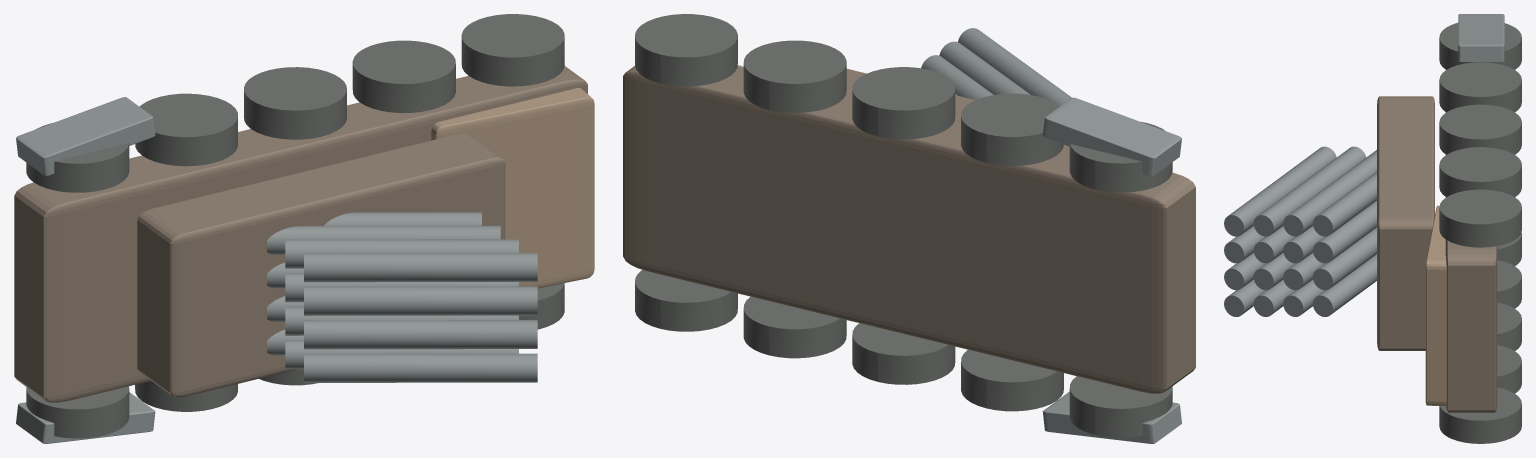
Rendered from d-u17-dominion-rocket-artillery-lod1.glb.
3 views of the same model, side by side, from view 1: azimuth 30°, elevation 25°; view 2: azimuth 150°, elevation 25°; view 3: azimuth 270°, elevation 25° (orthographic). The views are drawn at different scales.
Parts seen in each view (by area): view 1: upper_hull, chassis_lower, chassis_nose, rocket_tube_15, rocket_tube_14, rocket_tube_13, rocket_tube_16, chassis_wheel_1_4, chassis_wheel_1_3, chassis_wheel_1_2, chassis_wheel_1_1, rocket_jack_1 (+11 smaller); view 2: chassis_lower, chassis_wheel_1_2, chassis_wheel_1_3, chassis_wheel_1_4, chassis_wheel_1_1, rocket_jack_1, chassis_wheel_-1_3, chassis_wheel_-1_2, chassis_wheel_-1_1, chassis_wheel_-1_4, chassis_wheel_-1_0, chassis_wheel_1_0 (+4 smaller); view 3: upper_hull, chassis_lower, chassis_wheel_1_4, chassis_nose, chassis_wheel_1_2, chassis_wheel_1_3, chassis_wheel_1_1, chassis_wheel_-1_4, rocket_tube_12, rocket_tube_16, rocket_jack_1, rocket_tube_8 (+18 smaller).
Boxes of the visible parts, x1,y1,x2,y2 form: upper_hull: (137,133,505,397); chassis_lower: (14,66,587,402); chassis_nose: (431,88,594,288); rocket_tube_15: (304,286,537,315); rocket_tube_14: (304,320,537,349); rocket_tube_13: (304,353,537,382); rocket_tube_16: (304,253,537,282); chassis_wheel_1_4: (461,14,564,86); chassis_wheel_1_3: (352,40,455,112); chassis_wheel_1_2: (244,67,346,139); chassis_wheel_1_1: (135,93,237,166); rocket_jack_1: (16,97,155,175); chassis_lower: (623,66,1195,393); chassis_wheel_1_2: (852,67,955,139); chassis_wheel_1_3: (743,40,846,112); chassis_wheel_1_4: (635,14,737,86); chassis_wheel_1_1: (961,93,1063,165); rocket_jack_1: (1042,97,1181,176); chassis_wheel_-1_3: (743,296,846,358); chassis_wheel_-1_2: (852,323,955,384); chassis_wheel_-1_1: (961,349,1063,411); chassis_wheel_-1_4: (635,270,737,331); chassis_wheel_-1_0: (1069,376,1172,437); chassis_wheel_1_0: (1069,121,1172,192); upper_hull: (1377,96,1434,350); chassis_lower: (1445,112,1497,412); chassis_wheel_1_4: (1439,189,1521,247); chassis_nose: (1425,205,1446,406); chassis_wheel_1_2: (1439,104,1521,154); chassis_wheel_1_3: (1439,147,1521,197); chassis_wheel_1_1: (1439,62,1521,112); chassis_wheel_-1_4: (1439,387,1521,443); rocket_tube_12: (1253,146,1366,236); rocket_tube_16: (1224,146,1336,236); rocket_jack_1: (1458,14,1504,61); rocket_tube_8: (1283,150,1376,236).
Size of what is drawn, in the model's own units: 8.52 by 4.7 by 5.05.
